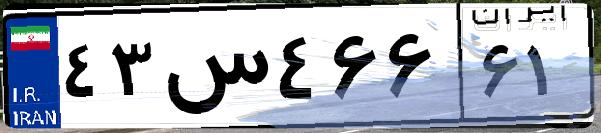1: (525, 38, 570, 115)
3: (110, 28, 158, 98)
4: (270, 28, 330, 110), (57, 26, 110, 100)
6: (385, 28, 445, 110), (330, 28, 385, 110), (475, 38, 525, 113)
س: (158, 20, 270, 120)
